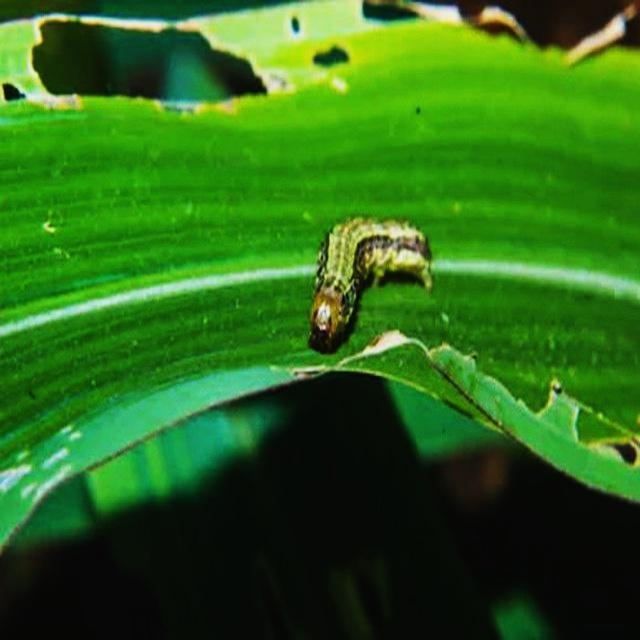worm: (306, 214, 435, 356)
